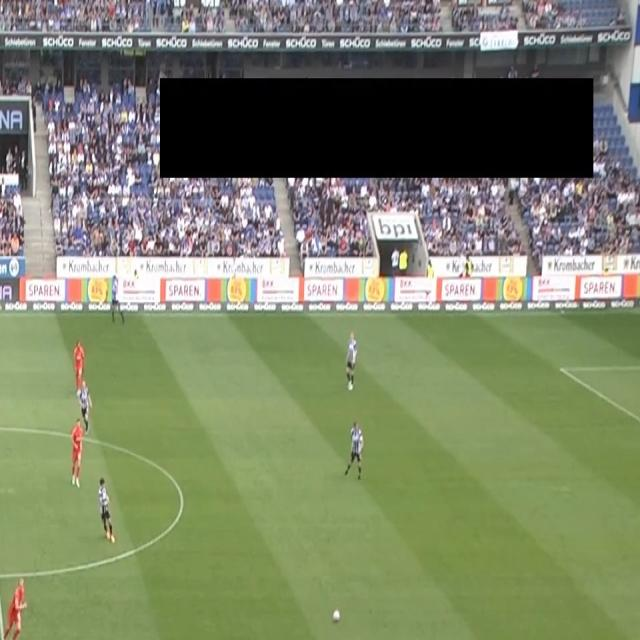ball: (332, 608, 340, 623)
